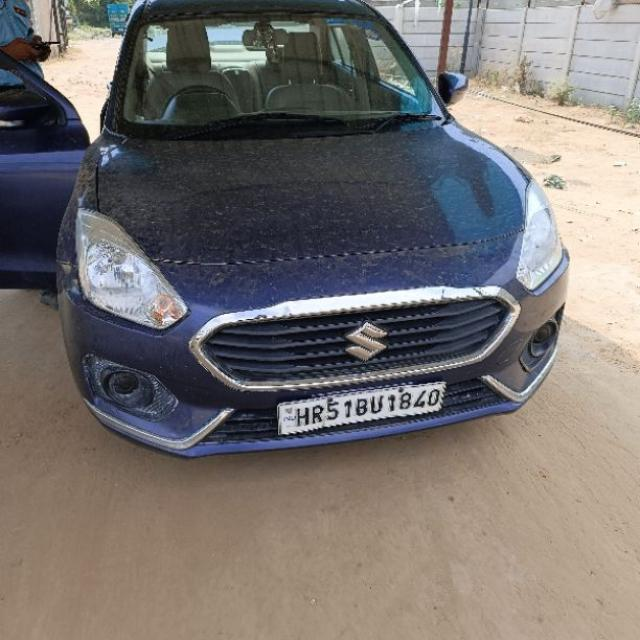license_plate: (275, 380, 447, 436)
